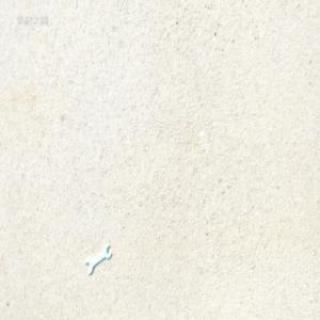Wrenchtrack_idkeyframe: (85, 244, 112, 275)
